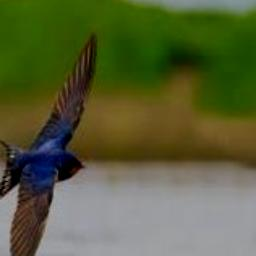Swallow: (0, 29, 96, 256)
